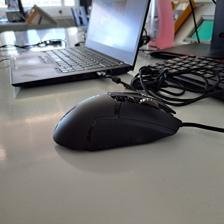mouse: (52, 91, 182, 153)
